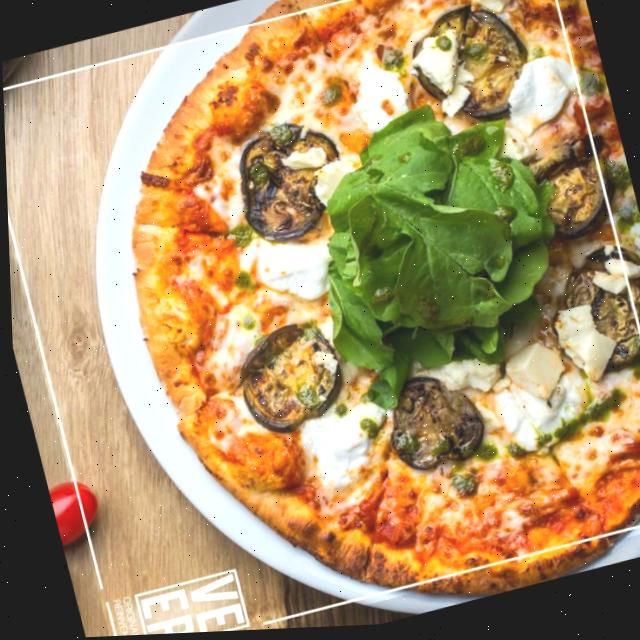basil: (282, 94, 577, 423)
pizza: (63, 0, 640, 638)
